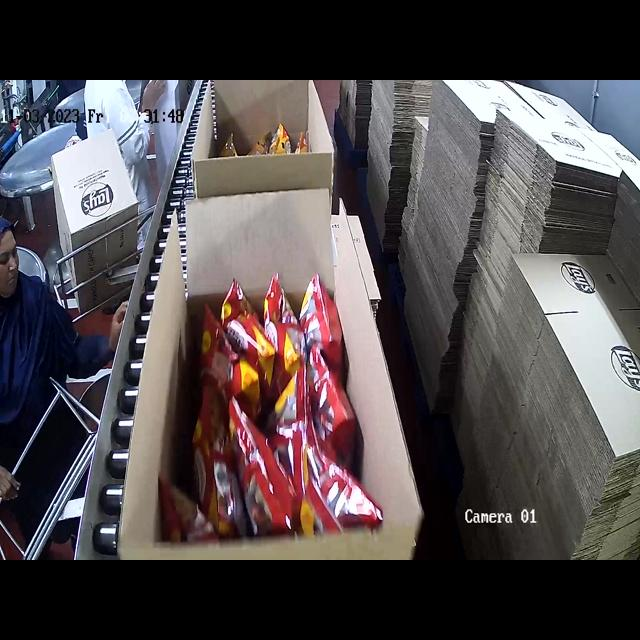cheese: (213, 123, 320, 156)
masala: (188, 305, 354, 512)
